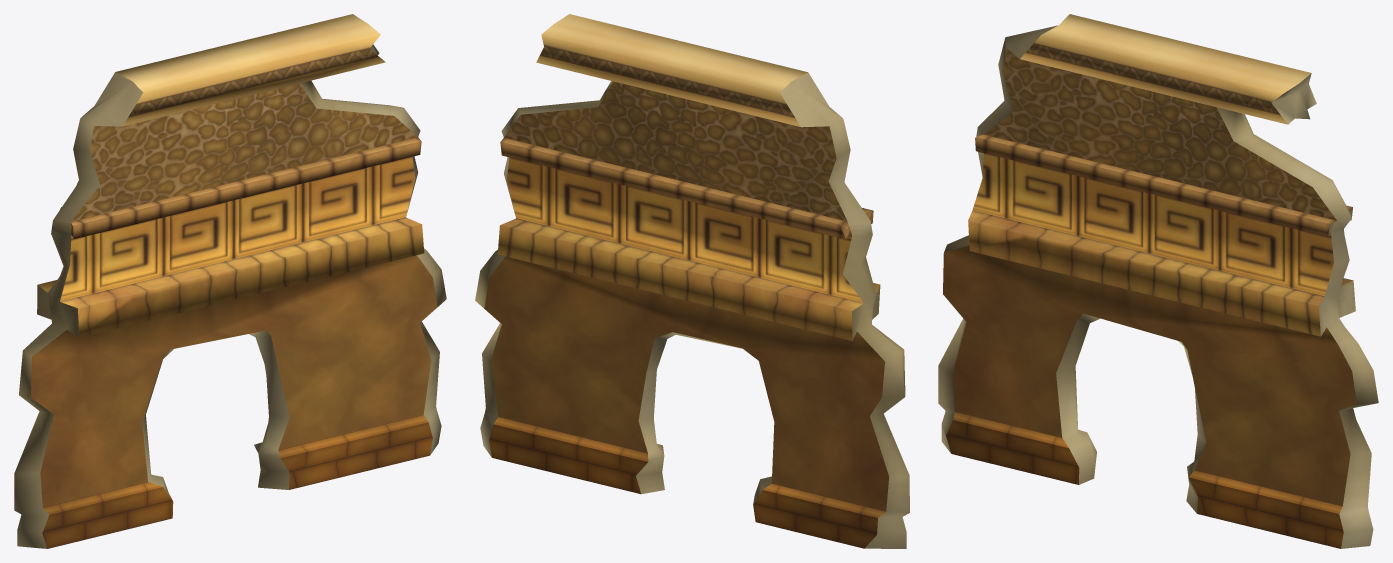
The model's file is RuinWallDoor.FBX.
3 views of the same model, side by side, from view 1: azimuth 30°, elevation 25°; view 2: azimuth 150°, elevation 25°; view 3: azimuth 330°, elevation 25° (orthographic).
Parts seen in each view (by area): view 1: Wall2; view 2: Wall2; view 3: Wall2.
Boxes of the visible parts, left/top/right/bottom form: Wall2: left=14, top=14, right=446, bottom=548; Wall2: left=475, top=14, right=909, bottom=548; Wall2: left=938, top=14, right=1378, bottom=548.
Bounding box in the file's own units: 602 × 581 × 82.7.
